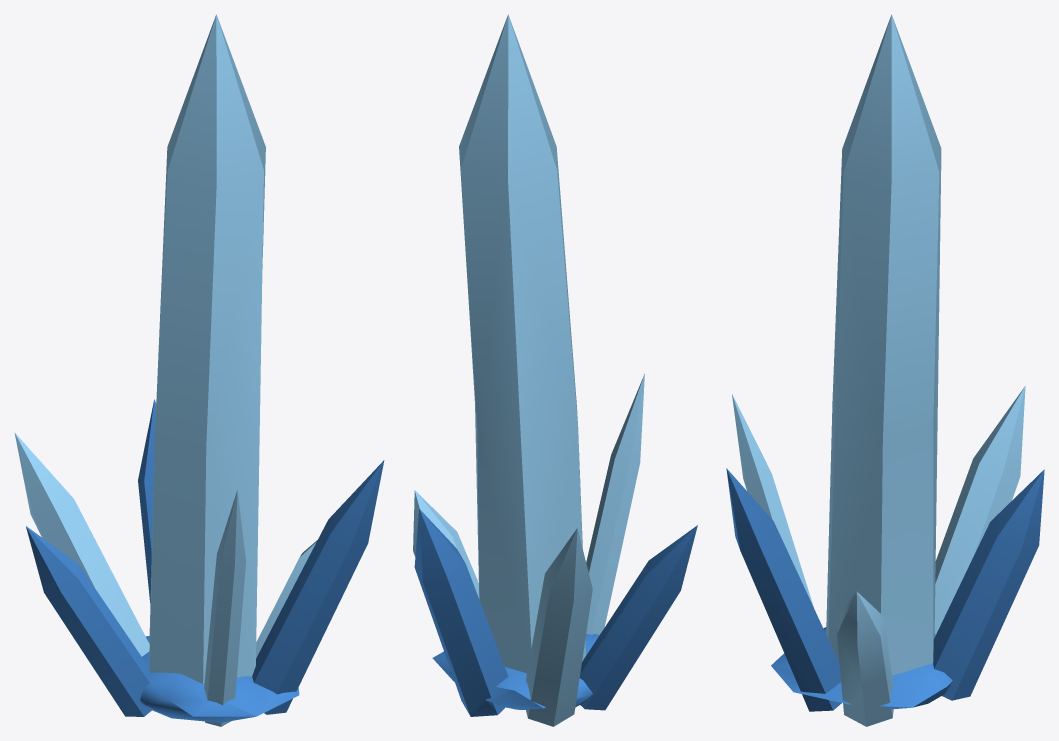
The model's file is CrystalSpire.fbx.
3 renders of one model, left to right at view 1: azimuth 30°, elevation 25°; view 2: azimuth 150°, elevation 25°; view 3: azimuth 270°, elevation 25°, orthographic.
Visible parts, largest first — view 1: Ice, IceDeep; view 2: Ice, IceDeep; view 3: Ice, IceDeep.
Part boxes in pixels (bbox=[...]): Ice: bbox=[14, 14, 317, 726]; IceDeep: bbox=[26, 399, 384, 722]; Ice: bbox=[413, 14, 644, 726]; IceDeep: bbox=[414, 509, 697, 716]; Ice: bbox=[732, 14, 1025, 726]; IceDeep: bbox=[726, 468, 1044, 711].
Size of the model in its own units: 23.92 by 51.37 by 21.64.
